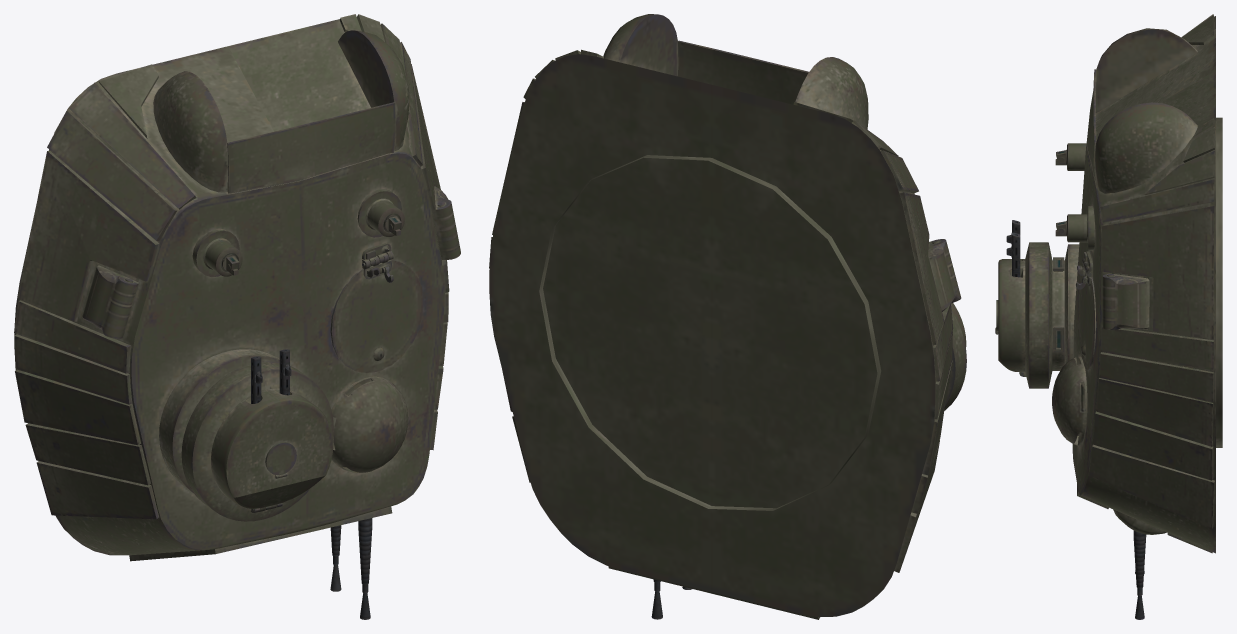
Rendered from Turret_02.glb.
3 renders of one model, left to right at view 1: azimuth 30°, elevation 25°; view 2: azimuth 150°, elevation 25°; view 3: azimuth 270°, elevation 25°, orthographic. The views are drawn at different scales.
Parts seen in each view (by area): view 1: set_0_group_0; view 2: set_0_group_0; view 3: set_0_group_0.
Boxes of the visible parts, left/top/right/bottom form: set_0_group_0: left=14, top=14, right=460, bottom=619; set_0_group_0: left=489, top=14, right=966, bottom=619; set_0_group_0: left=995, top=14, right=1222, bottom=619.
Size of the model in its own units: 2.12 by 2.72 by 1.08.
Materials: 1 (1 with a texture image).
